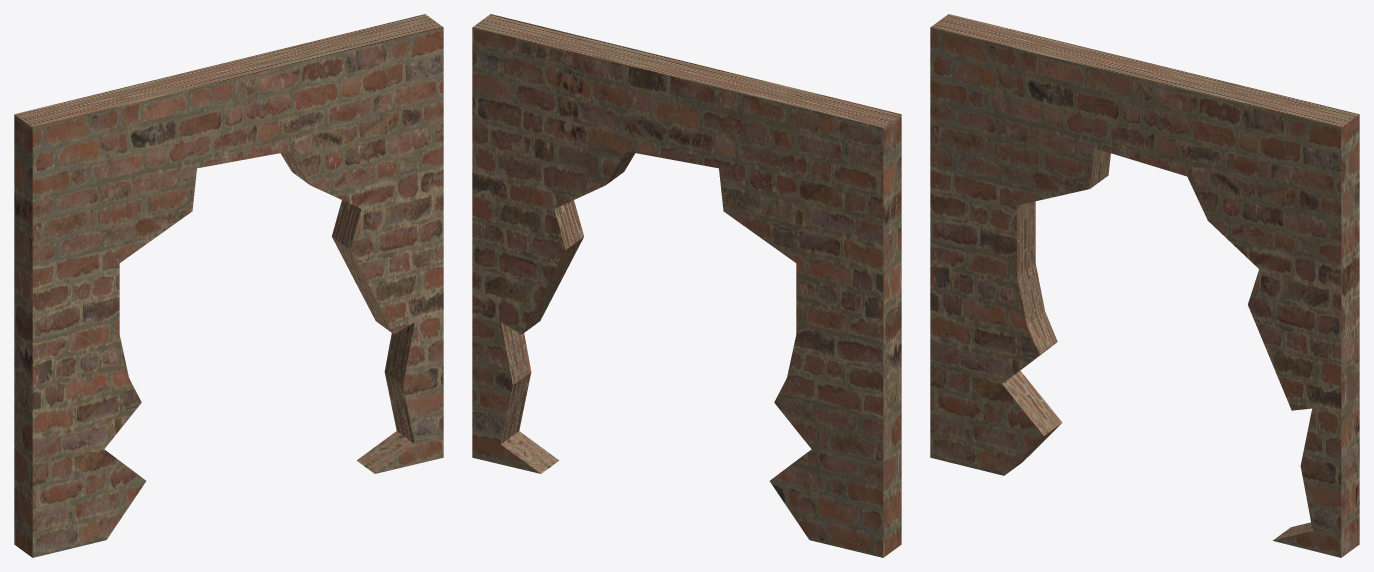
Rendered from WallBicks_001.glb.
3 views of the same model, side by side, from view 1: azimuth 30°, elevation 25°; view 2: azimuth 150°, elevation 25°; view 3: azimuth 330°, elevation 25° (orthographic).
Parts seen in each view (by area): view 1: WallBicks.001; view 2: WallBicks.001; view 3: WallBicks.001.
Part boxes in pixels (<box>): WallBicks.001: <box>14,14,443,557</box>; WallBicks.001: <box>472,14,901,557</box>; WallBicks.001: <box>930,14,1359,557</box>.
Bounding box in the file's own units: 4.01 × 4.01 × 0.3137.
Materials: 1 (1 with a texture image).
